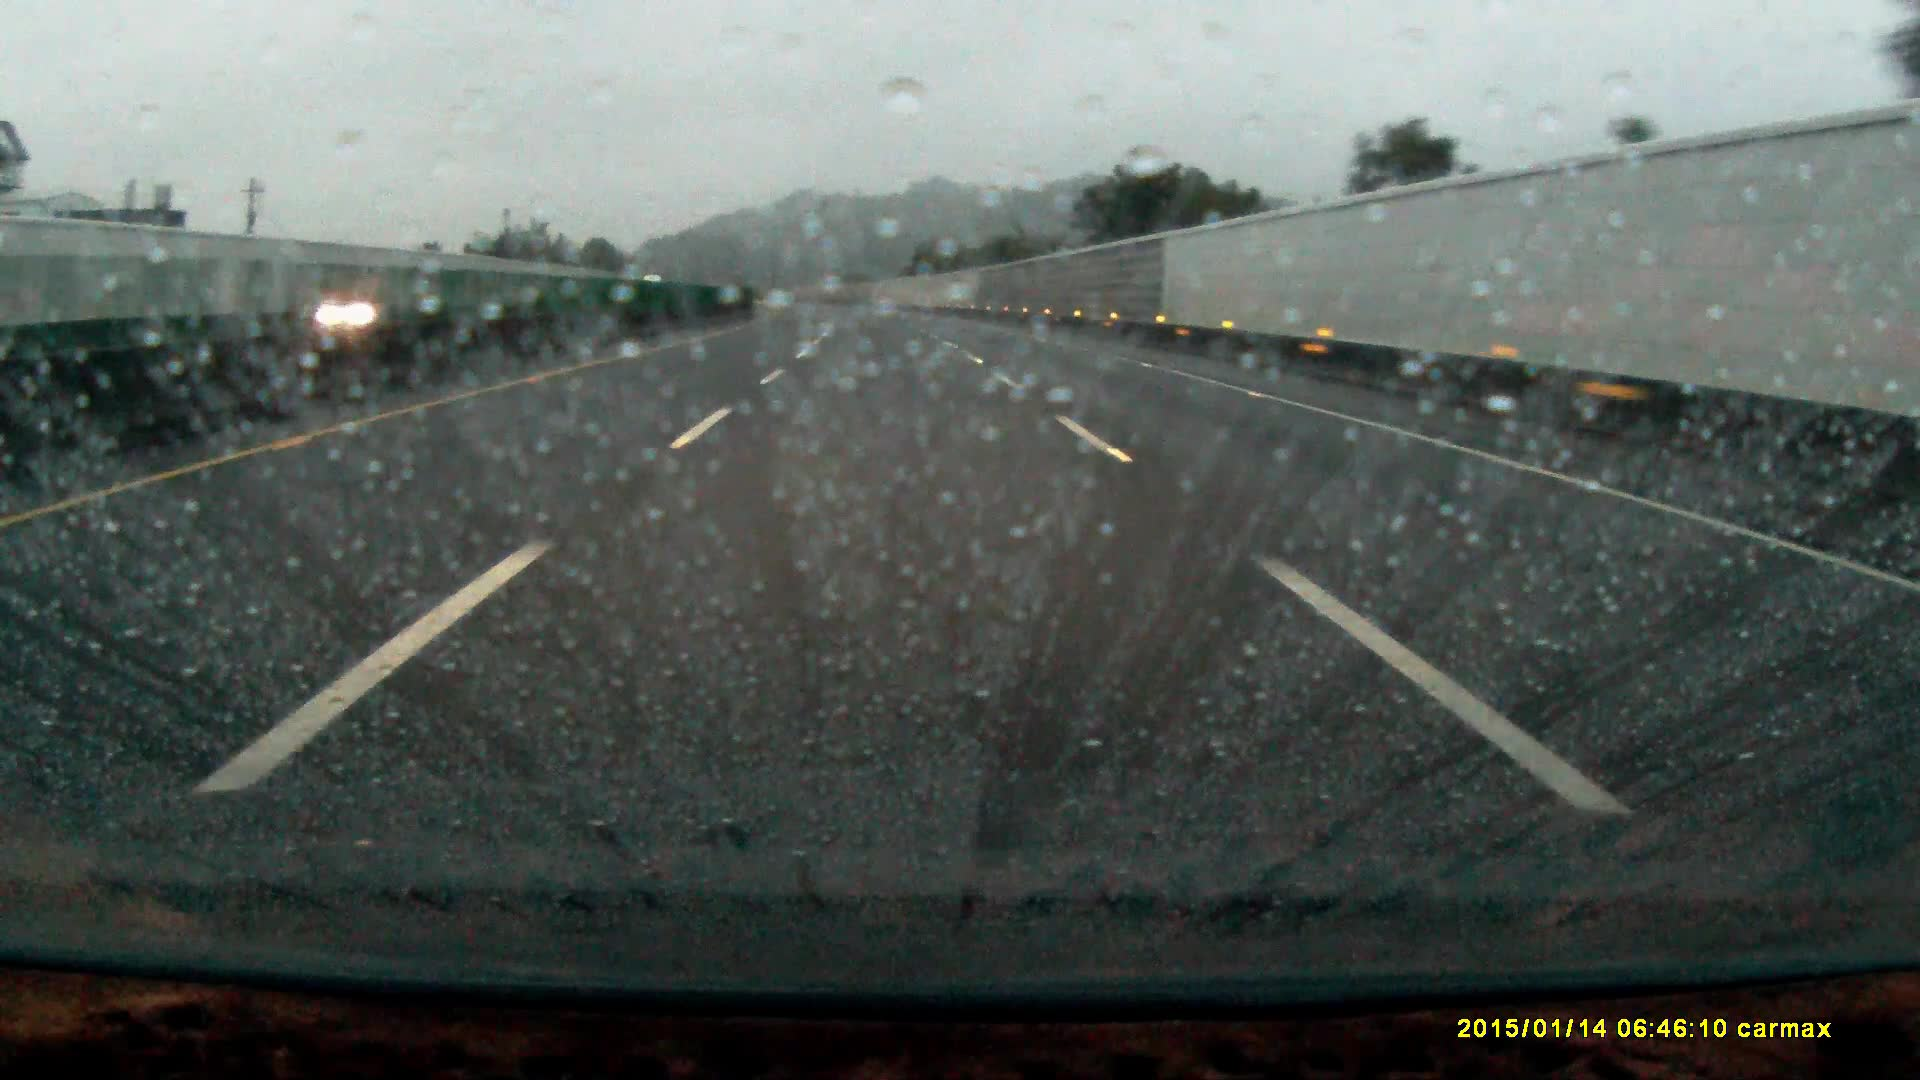vehicle: (319, 293, 389, 324)
